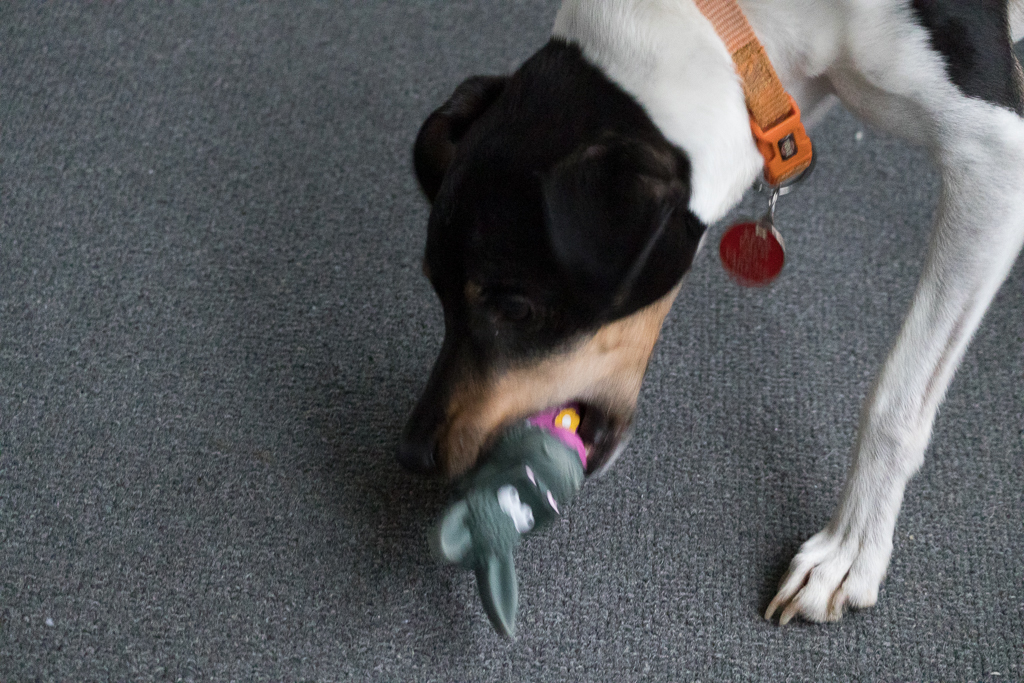Dog: (376, 0, 1024, 634)
Humanoid: (412, 372, 614, 653)
